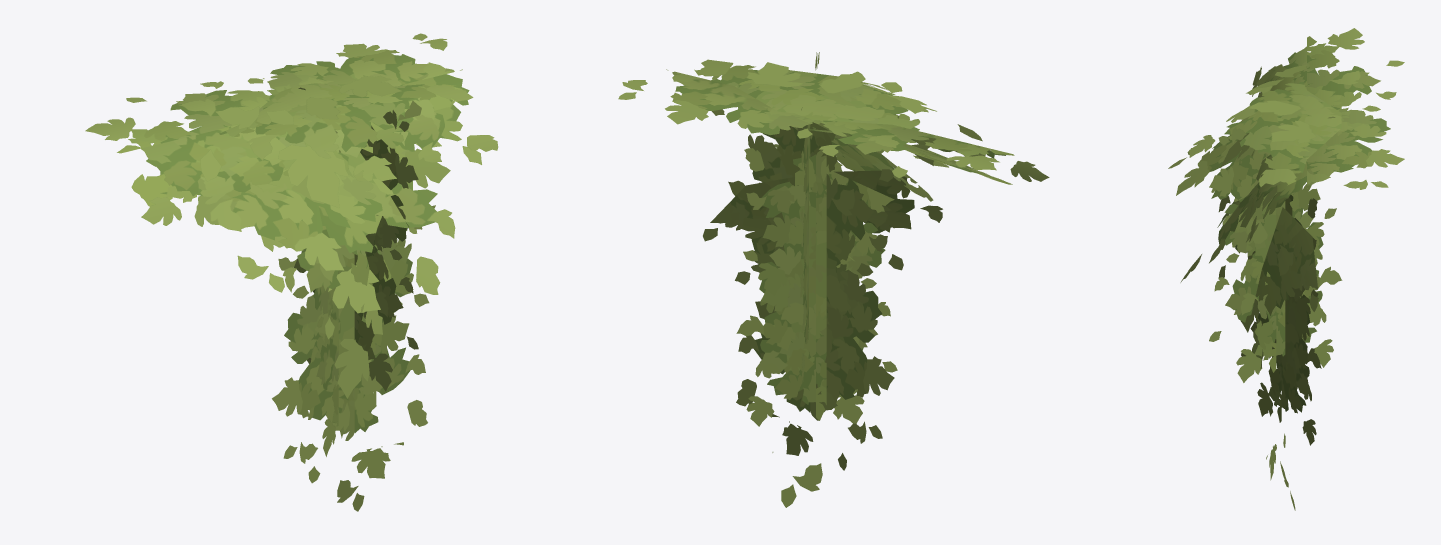
File: SM_Env_Vine_12.fbx
The picture shows the model from 3 angles, left to right: view 1: azimuth 30°, elevation 25°; view 2: azimuth 150°, elevation 25°; view 3: azimuth 270°, elevation 25°; orthographic projection. The views are drawn at different scales.
Visible parts, largest first — view 1: SM_Env_Vine_12; view 2: SM_Env_Vine_12; view 3: SM_Env_Vine_12.
Boxes of the visible parts, bbox=[...] form: SM_Env_Vine_12: bbox=[85, 33, 498, 511]; SM_Env_Vine_12: bbox=[618, 52, 1049, 507]; SM_Env_Vine_12: bbox=[1168, 28, 1404, 510].
Size of the model in its own units: 252 by 264 by 174.
